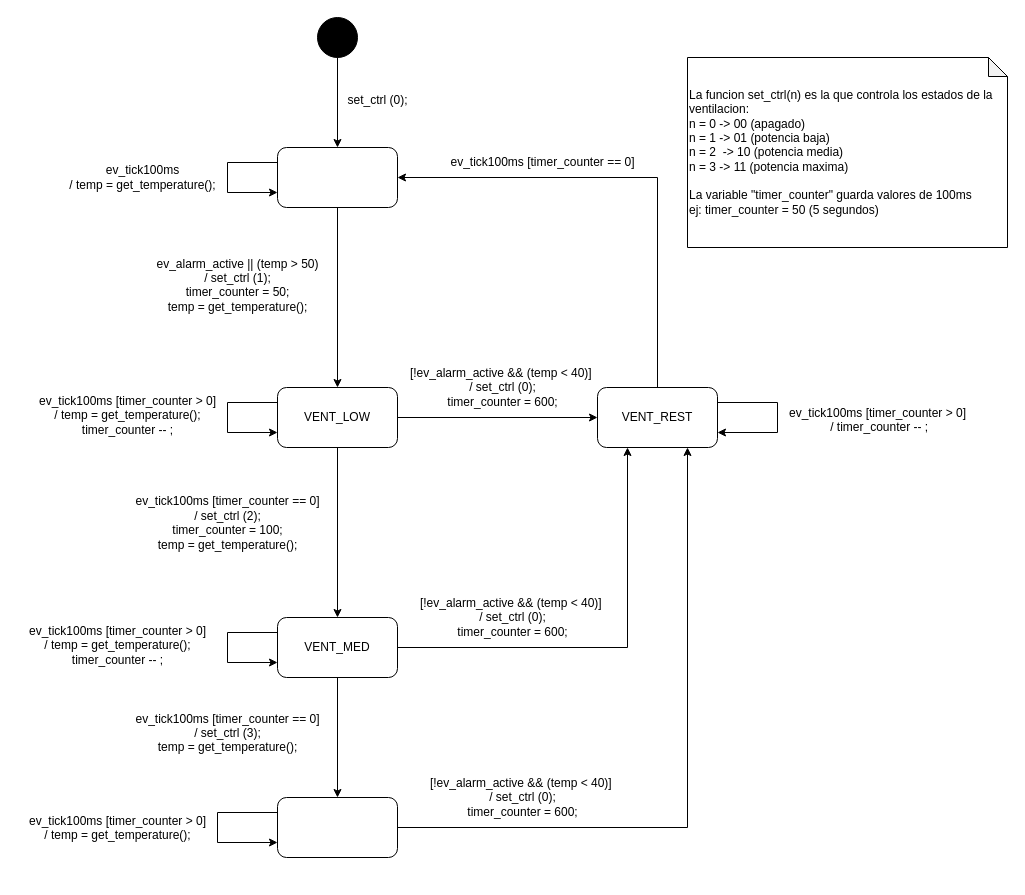
The diagram is 1025 pixels wide and 895 high, and some of its shapes have lost their labels. The centre of each missing label's shape, as x and y in pixels:
"VENT_MAX" goes at point 337,827.
"VENT_OFF" goes at point 337,177.
